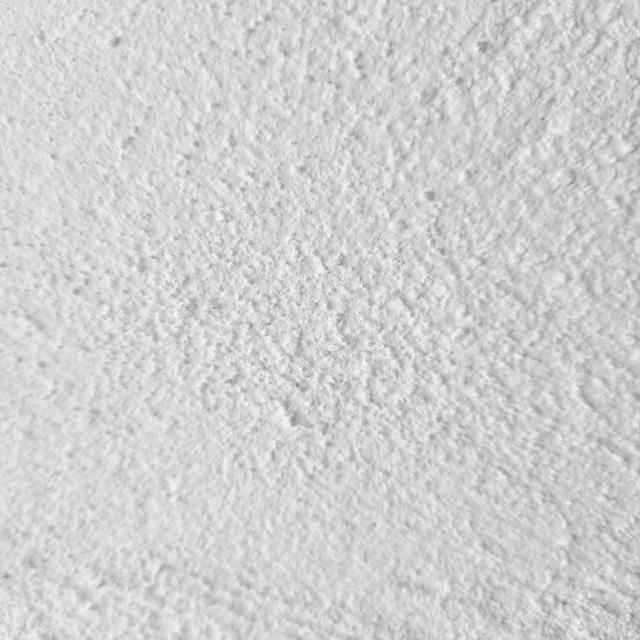rough and patchy surface: (6, 5, 633, 636)
